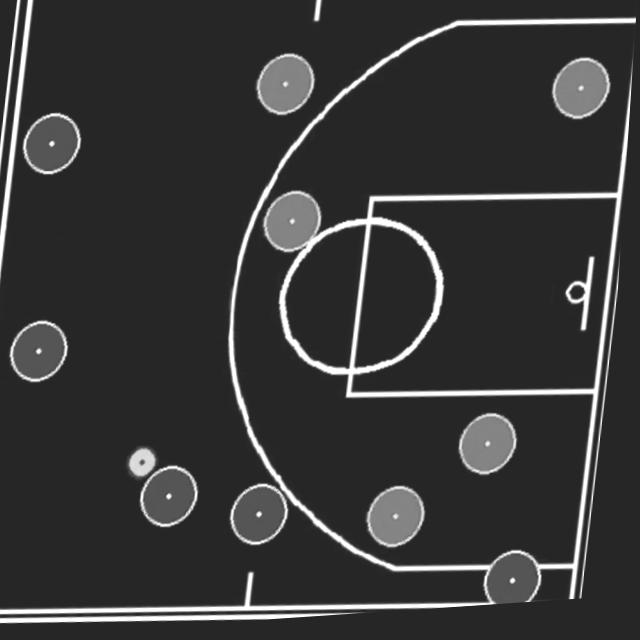Basketball: (129, 447, 165, 484)
Team_A: (10, 318, 75, 386), (233, 485, 298, 553), (21, 110, 85, 178), (143, 466, 207, 532), (489, 555, 551, 613)
Team_B: (253, 54, 318, 122), (371, 488, 435, 556), (263, 192, 327, 260), (462, 417, 525, 485), (551, 64, 613, 130)
